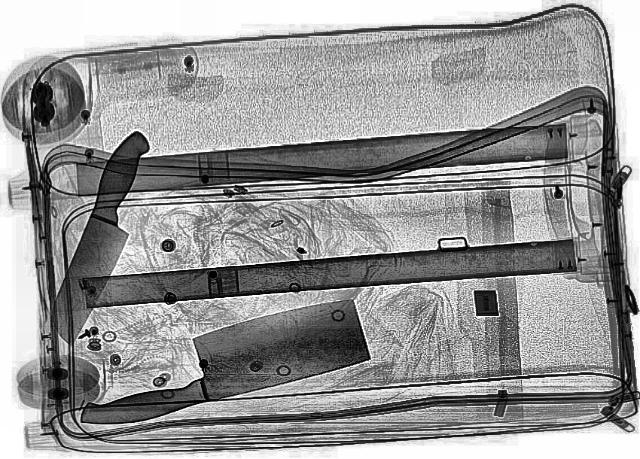Knife: (40, 288, 390, 440), (41, 124, 156, 351)
